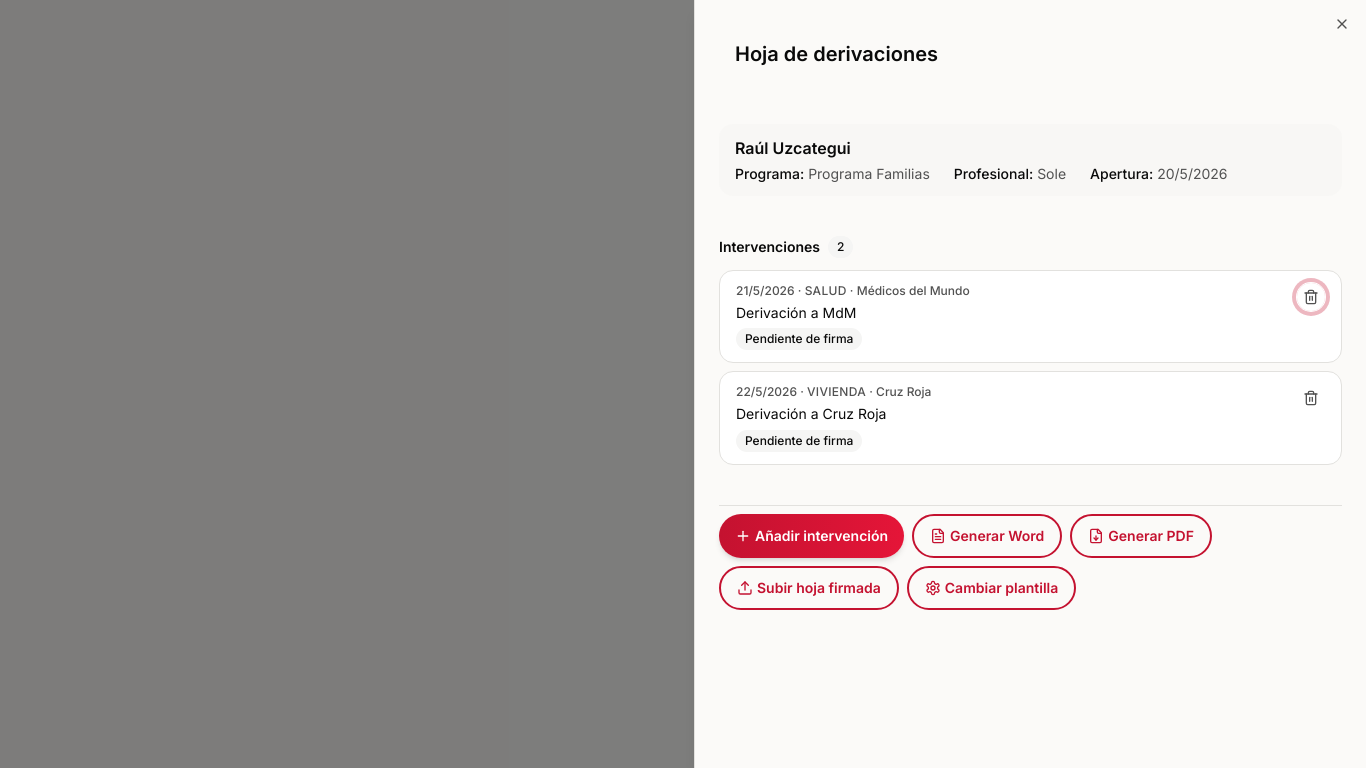
Test: HojaDrawer — Exclude intervention (Batch 20) › opens exclude confirmation dialog when trash button is clicked
Note: Click the first exclude button
Click the button named "excluir intervención" in the row of "· Médicos del Mundo" at (1311, 297), box [1297,283,1325,311]
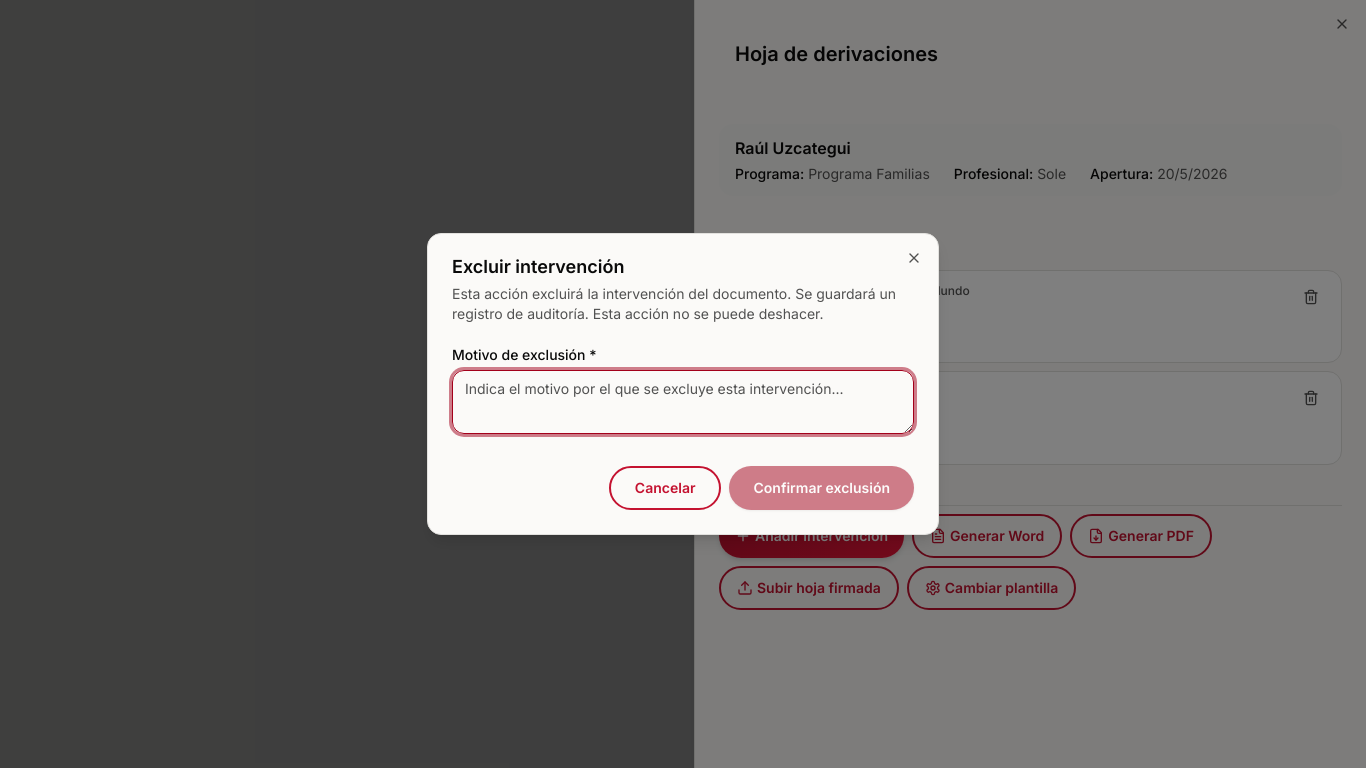
expect the dialog "Excluir intervención" is shown: met, box [427,233,939,535]
